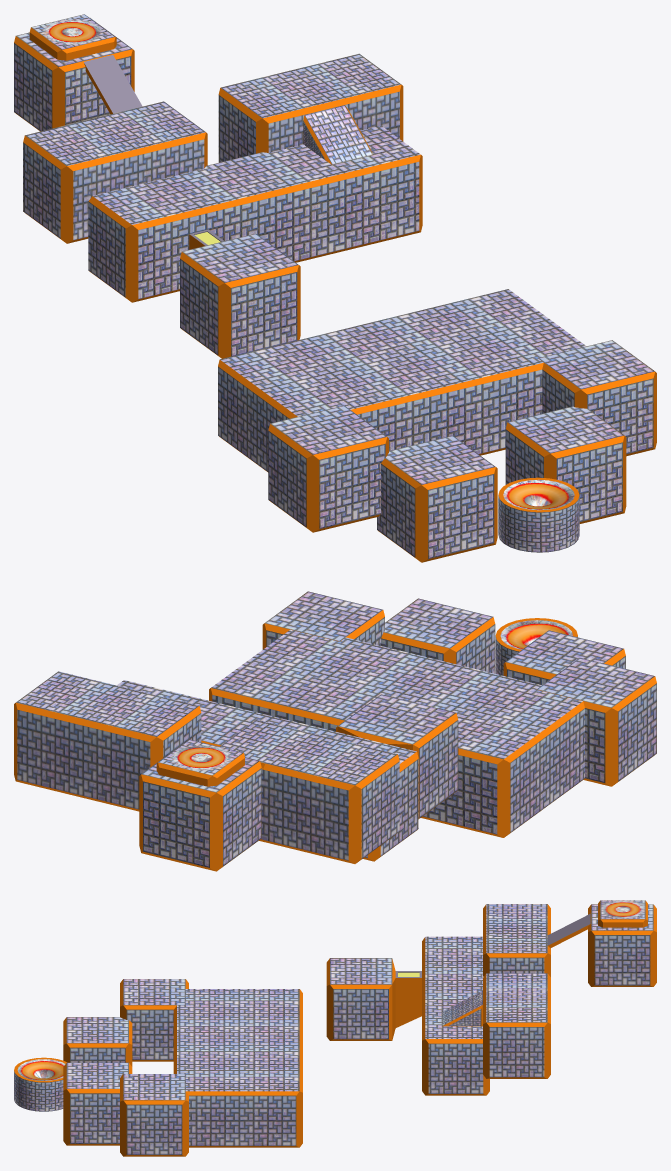
The model's file is Level11.fbx.
The picture shows the model from 3 angles, top to bottom: view 1: azimuth 30°, elevation 25°; view 2: azimuth 150°, elevation 25°; view 3: azimuth 270°, elevation 25°; orthographic projection. The views are drawn at different scales.
Parts seen in each view (by area): view 1: Level11; view 2: Level11; view 3: Level11.
Part boxes in pixels (left/top/right/bottom): Level11: left=14, top=14, right=656, bottom=562; Level11: left=14, top=591, right=656, bottom=871; Level11: left=14, top=900, right=656, bottom=1156.
Bounding box in the file's own units: 1415 × 934 × 3094.
10 materials, 5 textured.
